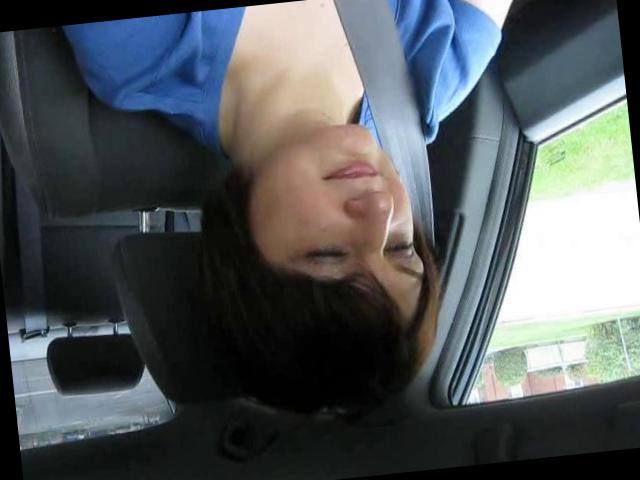eye_closed: (290, 236, 353, 273), (379, 233, 417, 264)
face: (252, 117, 429, 303)
